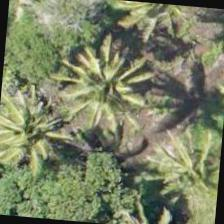Kelapa_Sawit: (60, 44, 158, 142), (140, 120, 224, 216), (0, 91, 82, 189)
